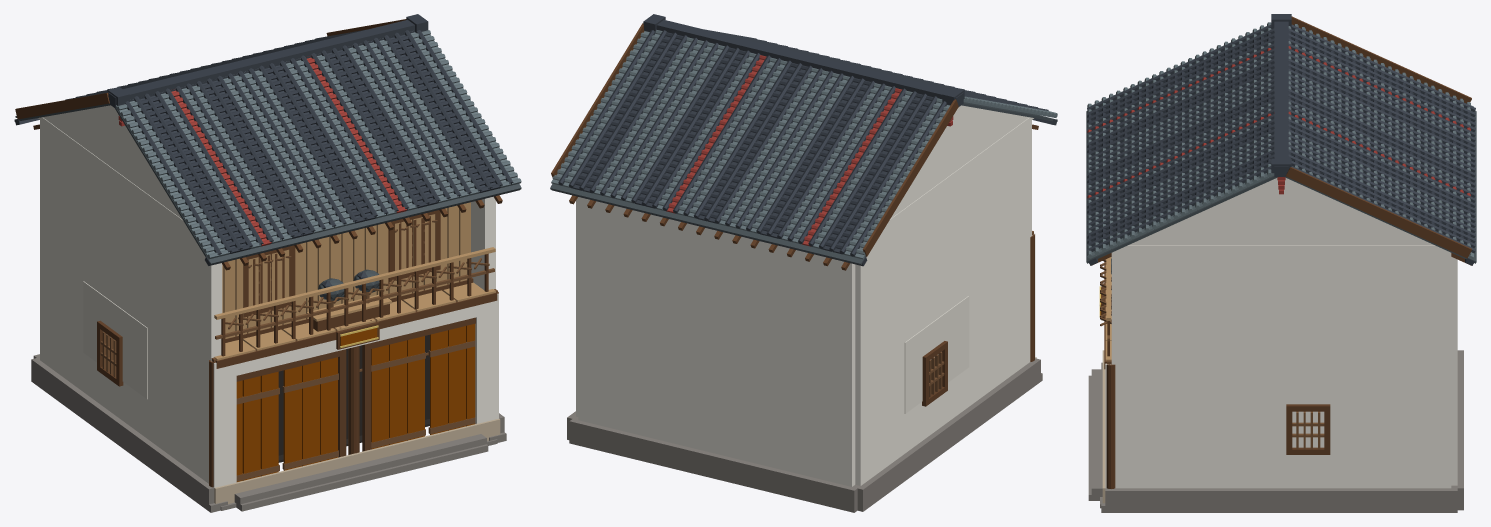
The model's file is lib_lib_house_b.hd.glb.
3 renders of one model, left to right at view 1: azimuth 30°, elevation 25°; view 2: azimuth 150°, elevation 25°; view 3: azimuth 270°, elevation 25°, orthographic.
Parts seen in each view (by area): view 1: lhb2_body, lhb2_roof; view 2: lhb2_body, lhb2_roof; view 3: lhb2_body, lhb2_roof.
Part boxes in pixels (left/top/right/bottom): lhb2_body: left=31, top=105, right=506, bottom=512; lhb2_roof: left=14, top=14, right=521, bottom=270; lhb2_body: left=567, top=105, right=1042, bottom=512; lhb2_roof: left=550, top=14, right=1057, bottom=270; lhb2_body: left=1088, top=178, right=1463, bottom=512; lhb2_roof: left=1086, top=14, right=1476, bottom=265.
Bounding box in the file's own units: 7.38 × 7.98 × 8.02.
Materials: 1 (1 with a texture image).
